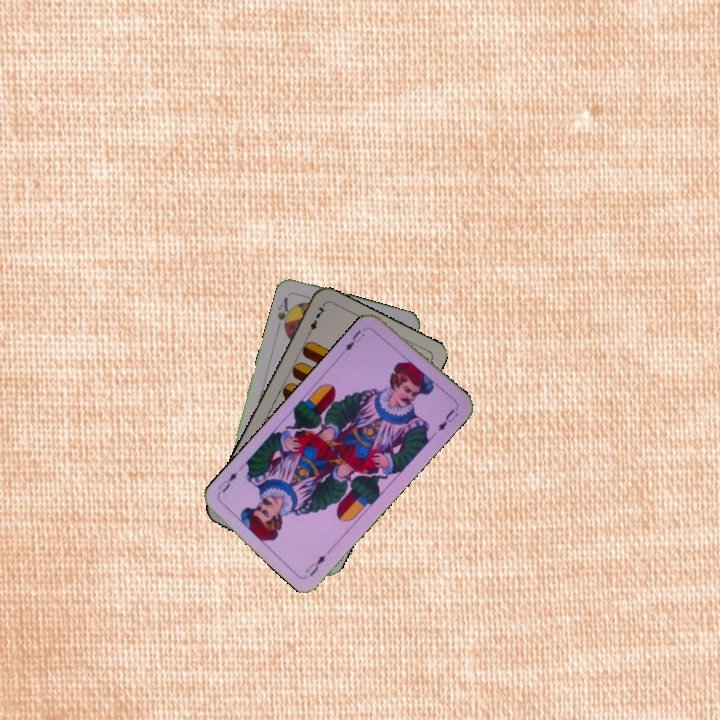E7: (303, 301, 328, 339)
EU: (341, 324, 369, 354), (301, 551, 328, 579)
SA: (273, 293, 295, 333)
